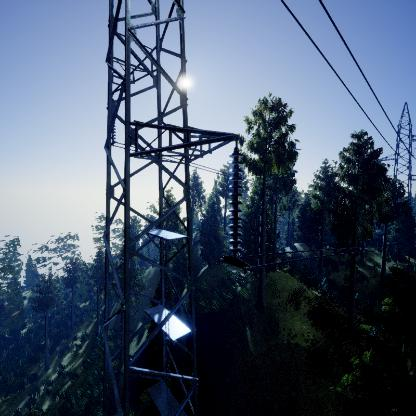insulator: (226, 150, 247, 257)
